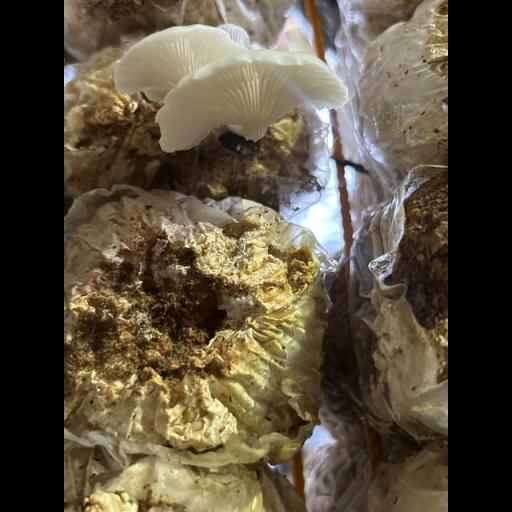White Oyster Mushroom: (118, 22, 347, 153)
